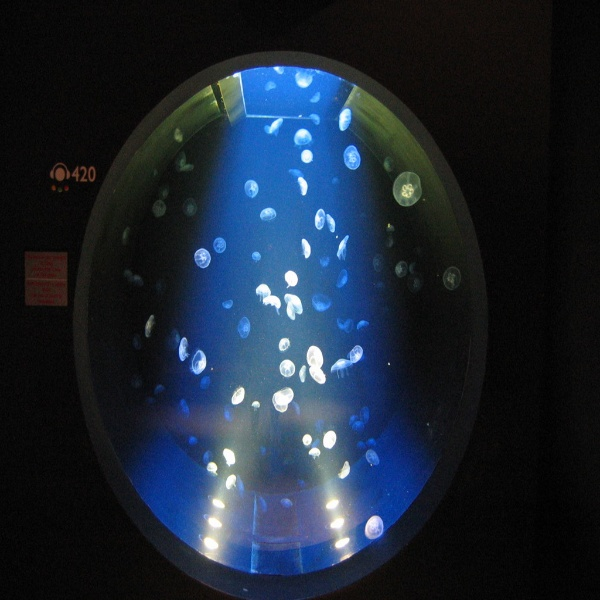Jellyfish: (390, 170, 422, 208), (306, 344, 325, 386), (360, 514, 381, 542), (283, 291, 302, 319), (441, 262, 459, 291), (331, 356, 350, 380), (342, 146, 360, 170), (336, 107, 353, 131), (176, 337, 192, 362), (191, 348, 207, 373), (193, 247, 211, 269), (236, 316, 251, 341), (179, 155, 196, 177), (141, 315, 155, 341), (276, 386, 294, 406), (311, 289, 329, 309), (335, 234, 347, 261), (295, 127, 312, 146), (391, 260, 408, 279), (322, 430, 338, 450), (347, 344, 363, 364), (230, 386, 247, 404), (262, 295, 279, 313), (270, 394, 287, 412), (323, 210, 336, 233), (244, 180, 261, 197), (267, 120, 283, 138), (296, 174, 309, 196), (334, 268, 347, 290), (373, 255, 386, 277), (183, 196, 197, 216), (313, 207, 324, 232), (279, 360, 295, 377), (336, 461, 352, 478), (363, 448, 379, 465), (222, 448, 237, 466), (256, 283, 270, 302), (261, 205, 278, 220), (283, 270, 298, 287), (357, 405, 369, 425), (211, 236, 225, 252), (224, 404, 235, 424), (336, 319, 354, 331), (203, 461, 217, 476), (178, 400, 189, 419), (355, 318, 369, 332), (278, 337, 290, 353), (200, 376, 213, 390), (154, 201, 166, 216), (225, 473, 237, 488), (302, 238, 311, 258), (298, 365, 307, 383), (309, 445, 321, 458), (301, 433, 312, 447), (150, 386, 165, 396), (278, 498, 290, 510), (321, 251, 329, 269), (186, 436, 197, 449), (223, 297, 234, 309), (301, 150, 312, 162), (203, 448, 214, 459), (251, 250, 261, 262), (251, 400, 260, 412), (351, 421, 360, 431)
